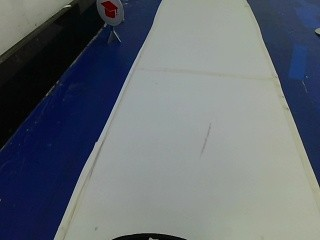school: (95, 0, 124, 26)
